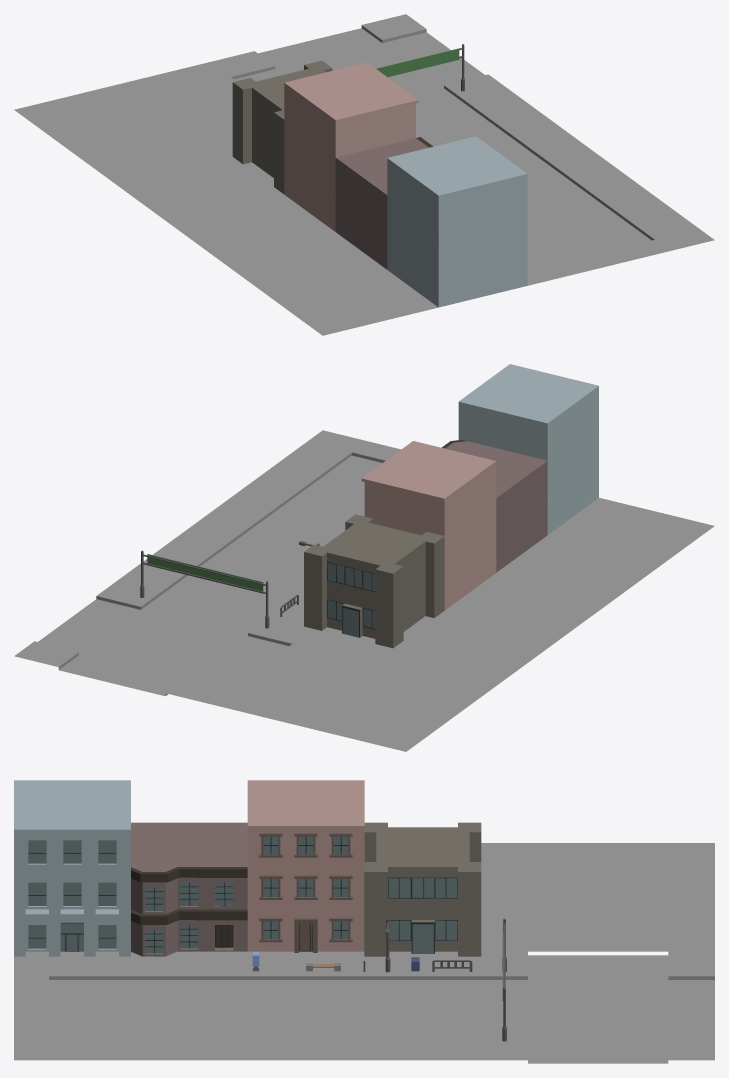
The picture shows the model from 3 angles, top to bottom: view 1: azimuth 30°, elevation 25°; view 2: azimuth 150°, elevation 25°; view 3: azimuth 270°, elevation 25°; orthographic projection. The views are drawn at different scales.
Visible parts, largest first — view 1: Pillar2; view 2: Pillar2; view 3: Pillar2.
Part boxes in pixels (x1,y1,x2,y2): Pillar2: (14, 14, 714, 335); Pillar2: (14, 364, 714, 751); Pillar2: (14, 780, 714, 1063).
Size of the model in its own units: 44 by 12.33 by 60.
